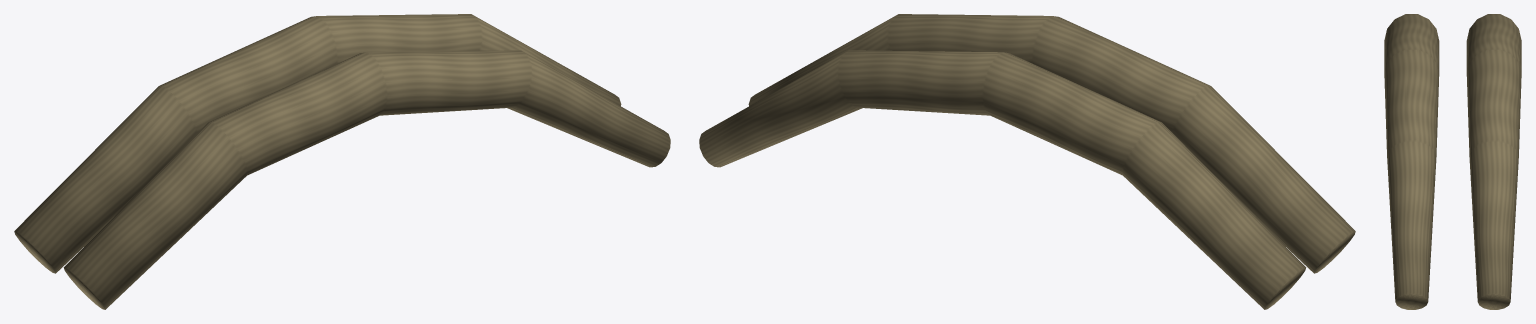
File: root_arch_bridge_swamp_and_mangrove_22619.glb
3 views of the same model, side by side, from view 1: azimuth 30°, elevation 25°; view 2: azimuth 150°, elevation 25°; view 3: azimuth 270°, elevation 25° (orthographic). The views are drawn at different scales.
Parts seen in each view (by area): view 1: root-arch-bridge_1, root-arch-bridge_0; view 2: root-arch-bridge_0, root-arch-bridge_1; view 3: root-arch-bridge_0, root-arch-bridge_1.
Part boxes in pixels (bbox=[...]): root-arch-bridge_1: bbox=[63, 50, 670, 309]; root-arch-bridge_0: bbox=[14, 14, 621, 273]; root-arch-bridge_0: bbox=[699, 50, 1306, 309]; root-arch-bridge_1: bbox=[748, 14, 1355, 273]; root-arch-bridge_0: bbox=[1466, 14, 1521, 309]; root-arch-bridge_1: bbox=[1384, 14, 1439, 309].
Size of the model in its own units: 4.17 by 1.24 by 0.9999.
Materials: 1 (1 with a texture image).
